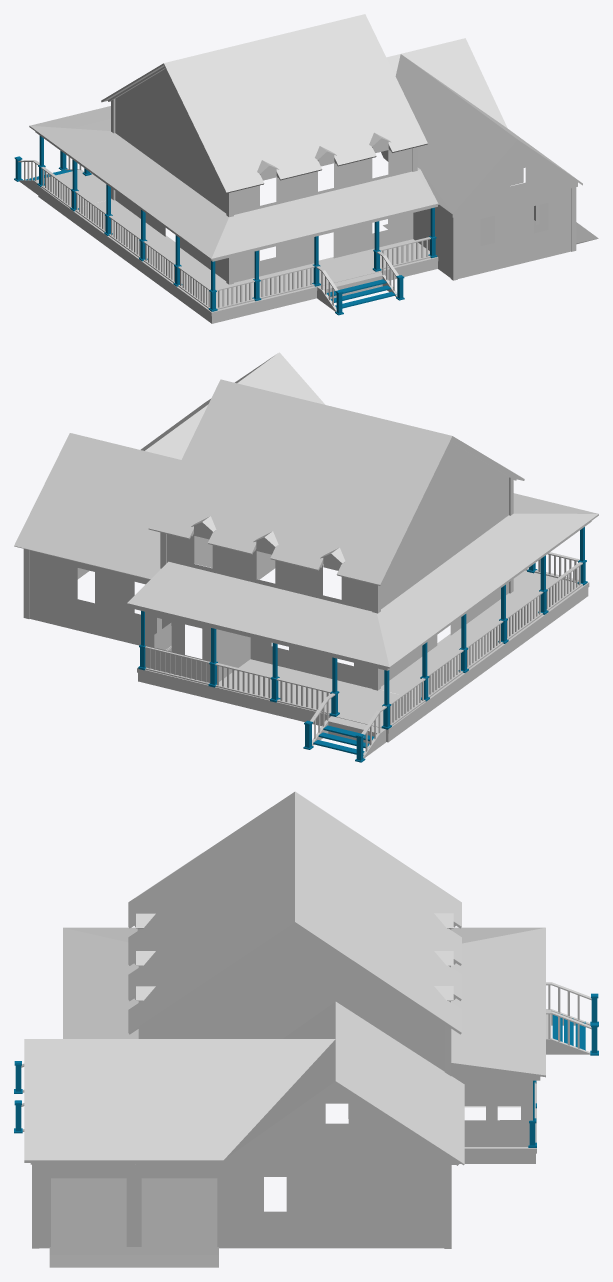
Rendered from House_exterior.fbx.
The picture shows the model from 3 angles, top to bottom: view 1: azimuth 30°, elevation 25°; view 2: azimuth 150°, elevation 25°; view 3: azimuth 270°, elevation 25°; orthographic projection. The views are drawn at different scales.
Parts seen in each view (by area): view 1: House_exterior; view 2: House_exterior; view 3: House_exterior.
Boxes of the visible parts, x1,y1,x2,y2 form: House_exterior: [14, 14, 598, 323]; House_exterior: [14, 352, 598, 762]; House_exterior: [14, 791, 598, 1267].
Size of the model in its own units: 2056 by 984 by 2051.
